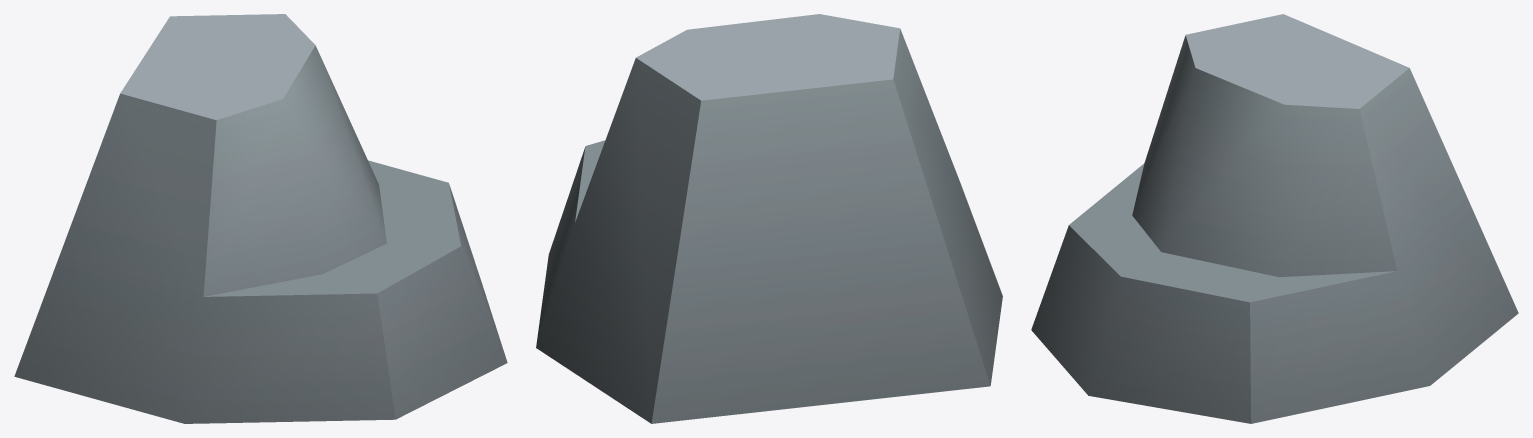
The model's file is rock-c.glb.
3 renders of one model, left to right at view 1: azimuth 30°, elevation 25°; view 2: azimuth 150°, elevation 25°; view 3: azimuth 270°, elevation 25°, orthographic. The views are drawn at different scales.
Parts seen in each view (by area): view 1: rock_single_C; view 2: rock_single_C; view 3: rock_single_C.
Part boxes in pixels (left/top/right/bottom): rock_single_C: left=14, top=14, right=507, bottom=423; rock_single_C: left=536, top=14, right=1002, bottom=423; rock_single_C: left=1031, top=14, right=1518, bottom=423.
Size of the model in its own units: 0.3439 by 0.1948 by 0.3442.
Materials: 1 (1 with a texture image).
